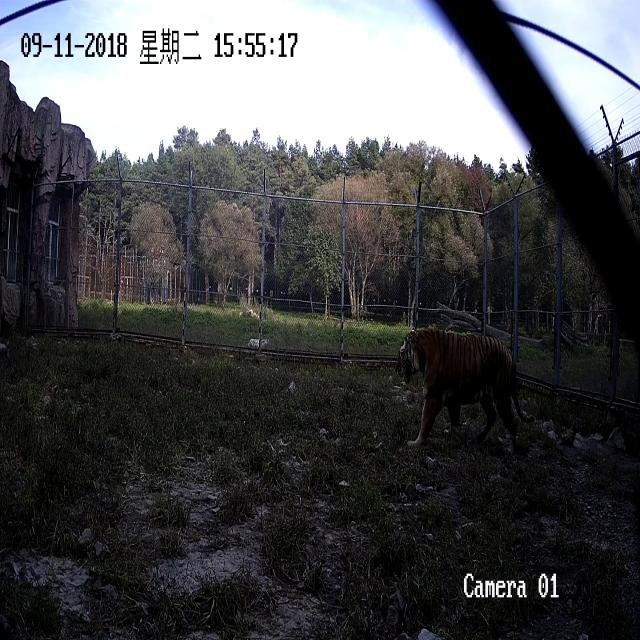Tiger: (388, 301, 538, 476)
